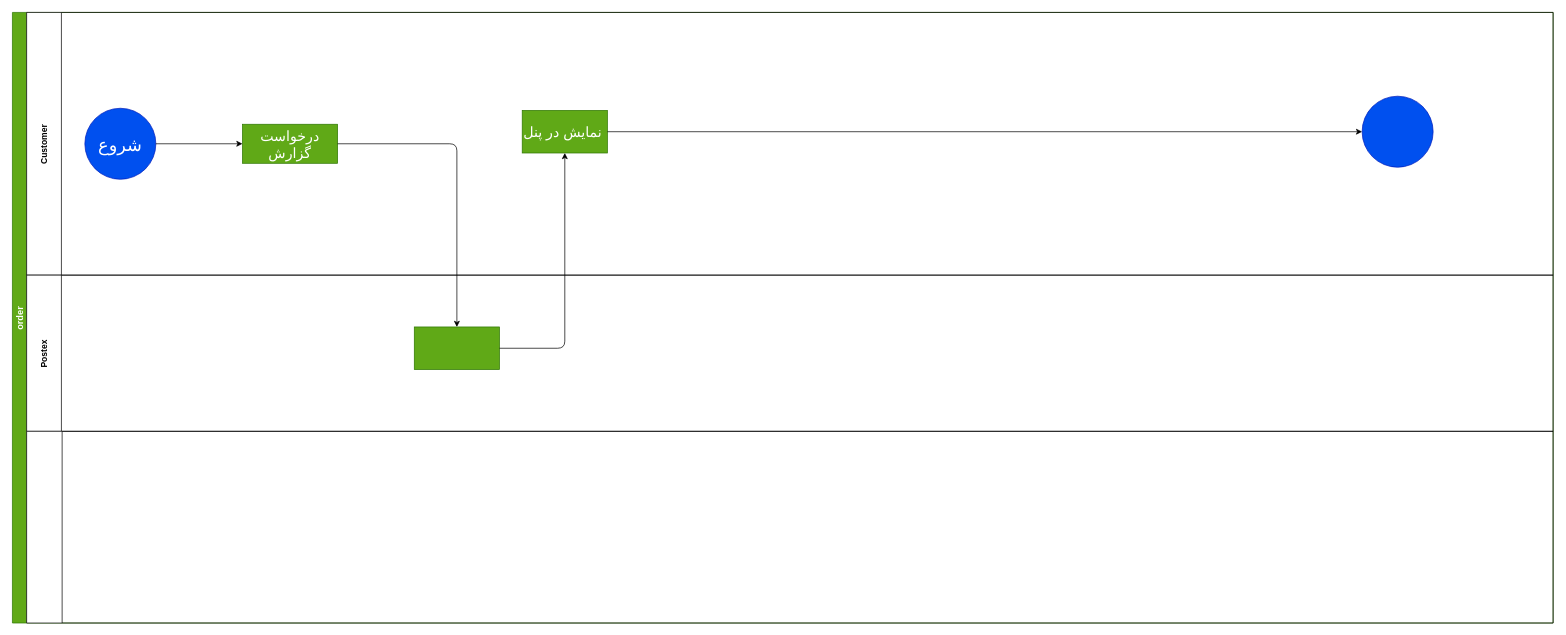
This 1566x635 diagram has some shape labels left out. The shapes that lost their labels are listed below. From the top down, each one's centre as x and y in pixels, then its label:
(1397,131): پایان
(456,348): ایجاد گزارش به طور اتوماتیک
(789,527): Vendor
